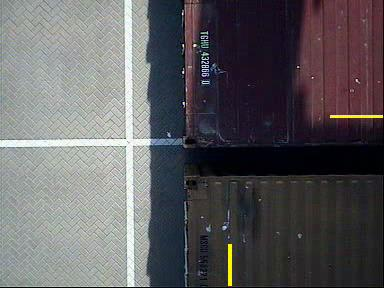groundmarker_2: (187, 148, 241, 178)
